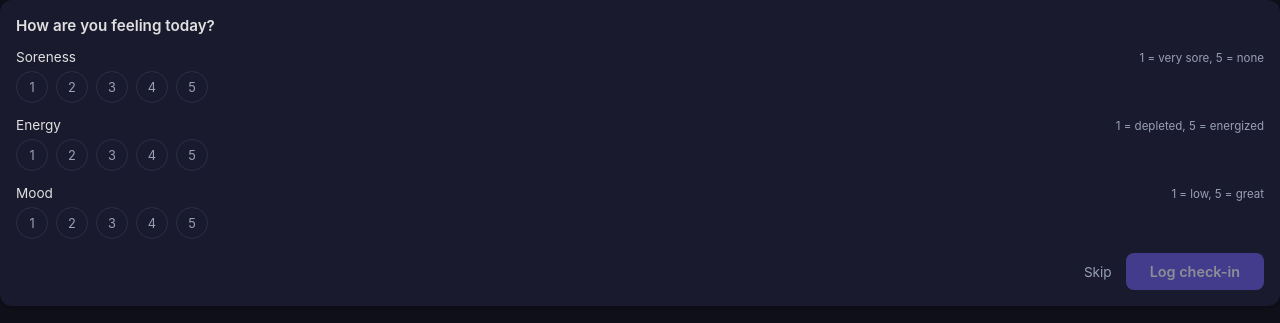
it: DailyCheckinCard › keeps the log button disabled until at least one scale is tapped
This screenshot has width=1280, height=323.
Expected: the button "Log check-in" is disabled, [1126,253,1264,290]
Click the button "4" below "Energy".
click(152, 155)  # box [136,139,168,171]
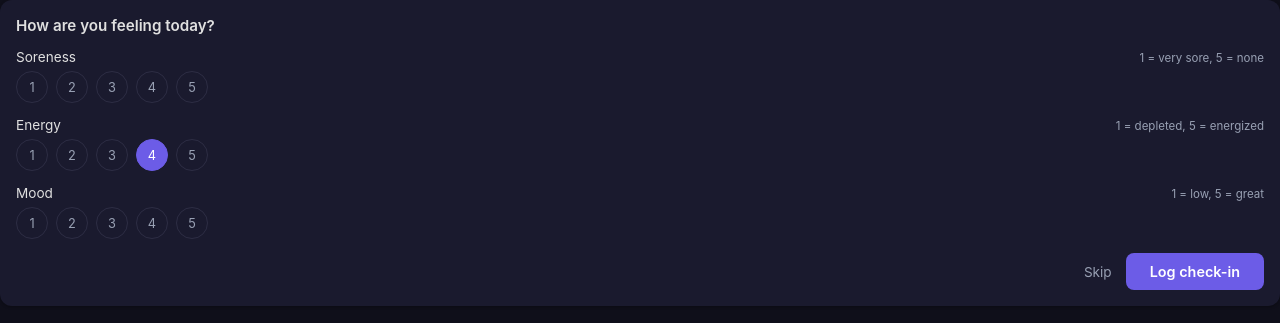
Expected: the button "Log check-in" is enabled, [1126,253,1264,290]
